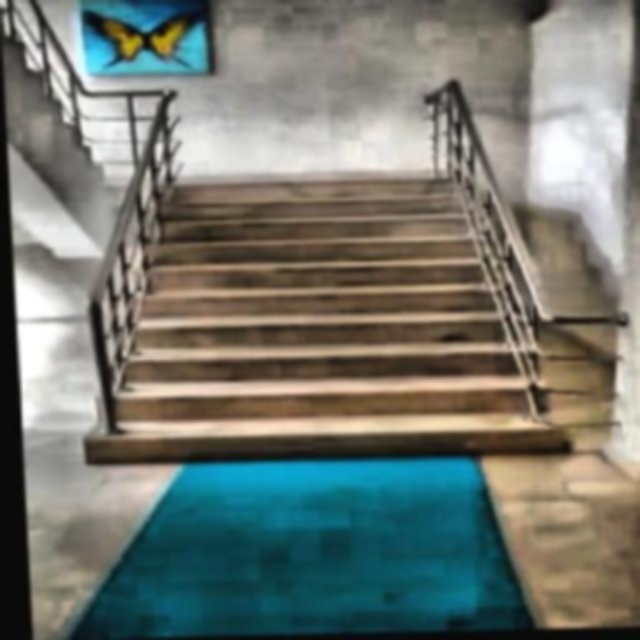stair: (83, 170, 574, 467)
